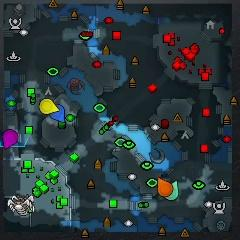p1: (49, 104, 65, 123)
p2: (165, 180, 180, 201)
p3: (1, 128, 19, 149)
p4: (39, 98, 59, 115)
p5: (156, 177, 173, 197)
